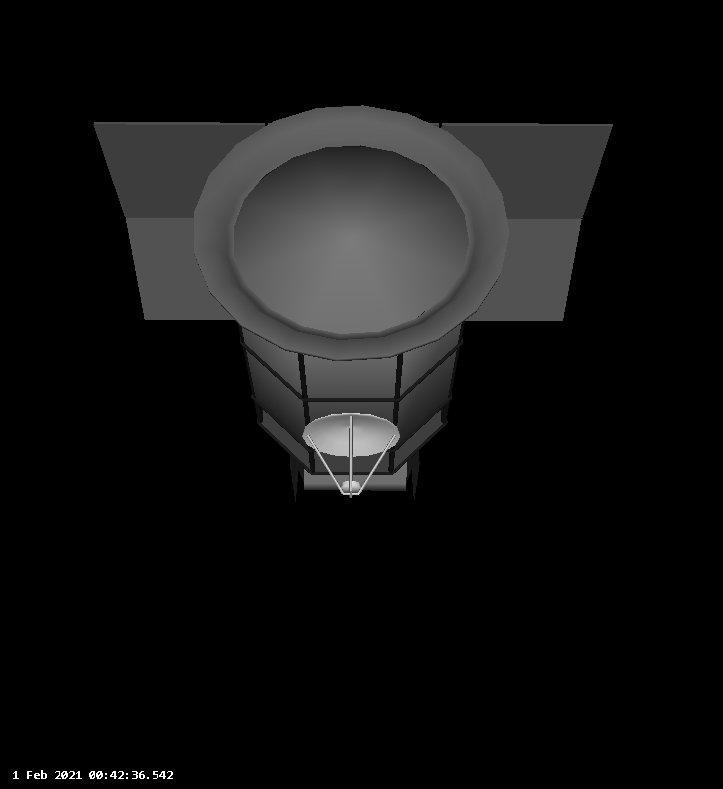antenna: (299, 409, 404, 502)
body: (236, 324, 469, 476)
solar: (90, 118, 614, 325)
